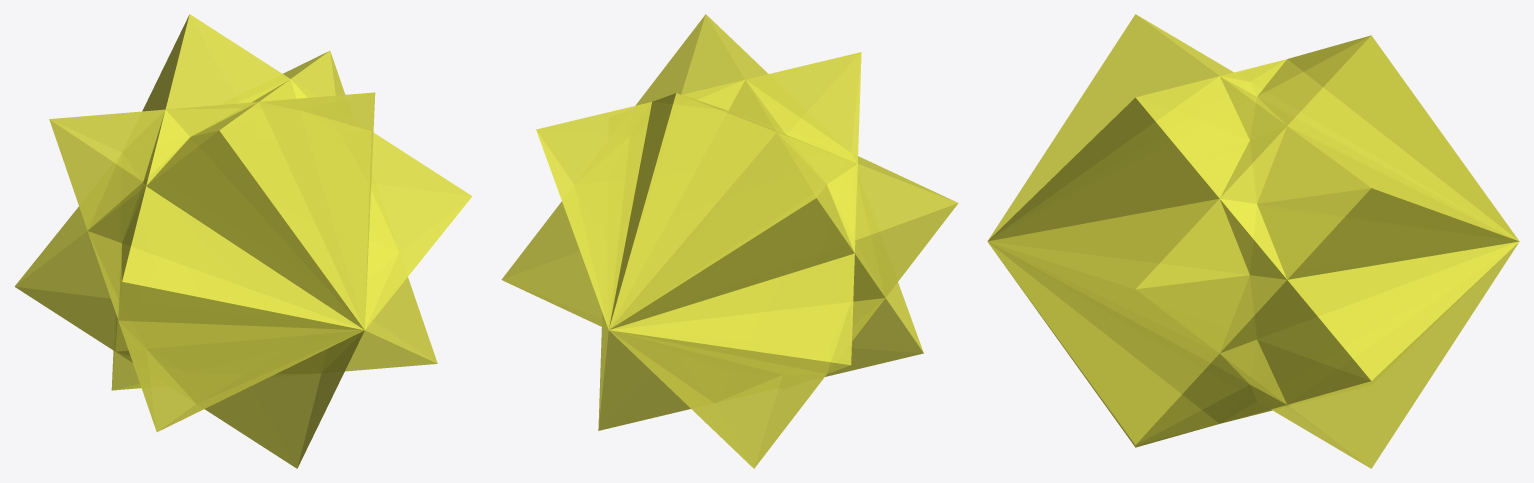
The model's file is HeptagrammicTrapezohedron.obj.
The picture shows the model from 3 angles, left to right: view 1: azimuth 30°, elevation 25°; view 2: azimuth 150°, elevation 25°; view 3: azimuth 270°, elevation 25°; orthographic projection. The views are drawn at different scales.
Bounding box in the file's own units: 1 × 1.03 × 1.2.
